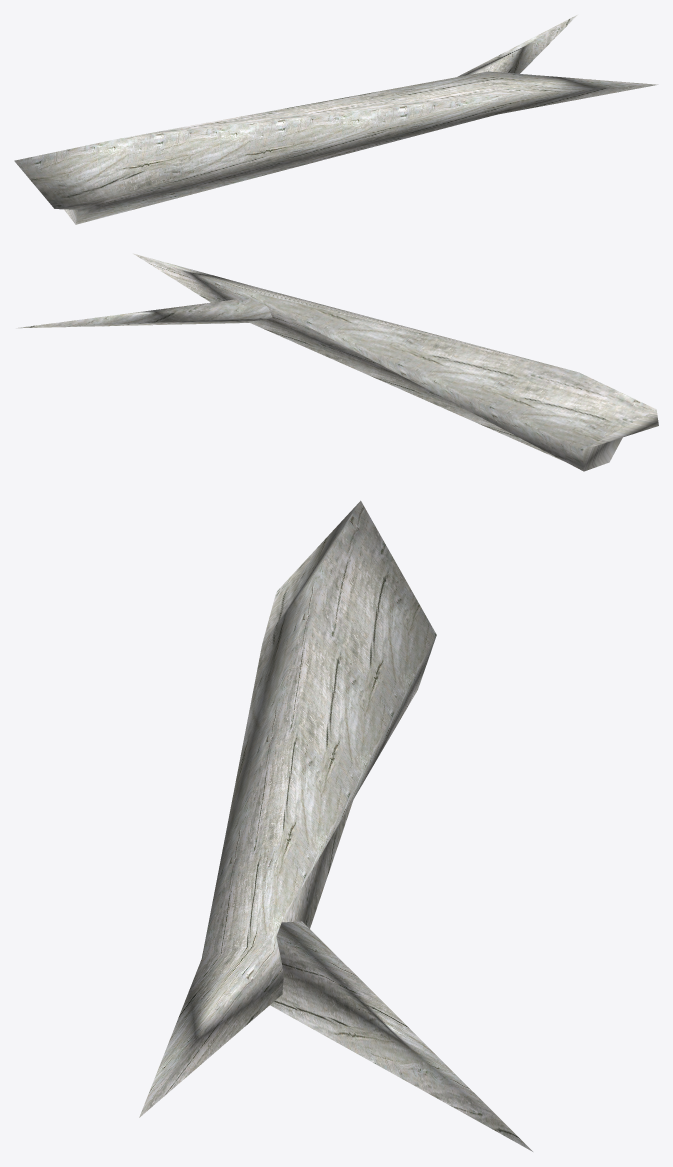
The model's file is shor_driftwood_a2_l2.fbx.
3 renders of one model, top to bottom at view 1: azimuth 30°, elevation 25°; view 2: azimuth 150°, elevation 25°; view 3: azimuth 270°, elevation 25°, orthographic. The views are drawn at different scales.
Parts seen in each view (by area): view 1: mesh_node; view 2: mesh_node; view 3: mesh_node.
Part boxes in pixels (x1,y1,x2,y2): mesh_node: [14, 14, 658, 224]; mesh_node: [16, 253, 658, 471]; mesh_node: [139, 500, 532, 1151].
Bounding box in the file's own units: 2.76 × 0.3468 × 0.7879.
